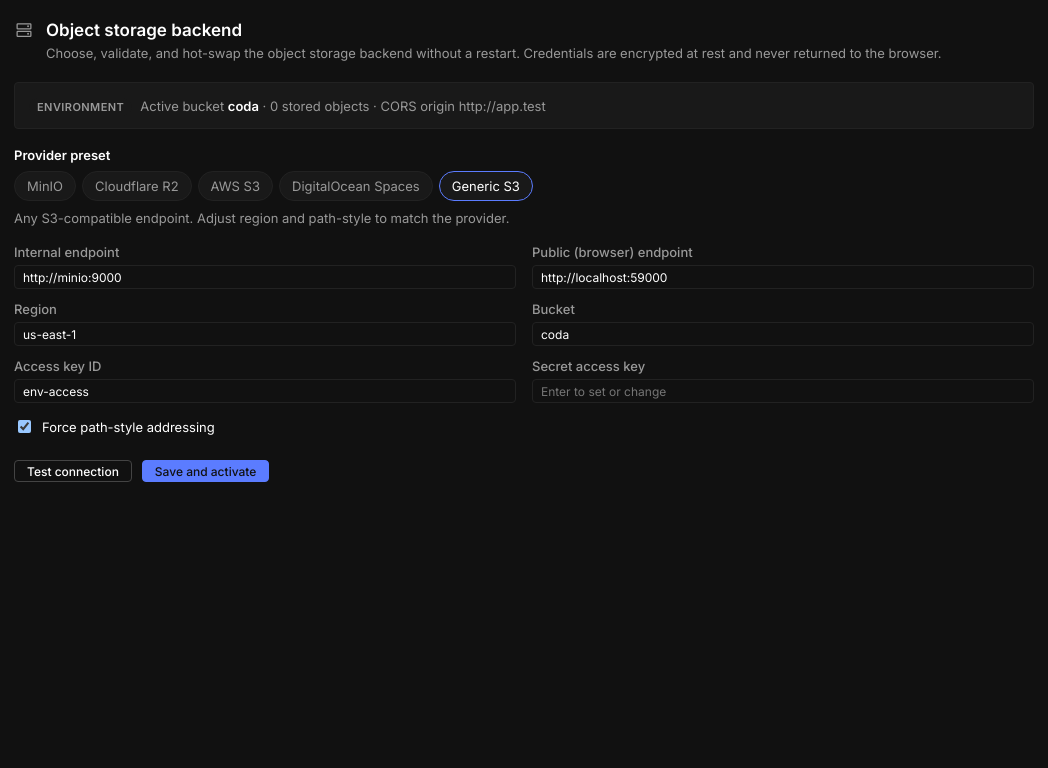
Test case: StorageSection › runs the probe and renders per-check results
Expected: the text "Environment" is shown, [29,98,132,116]
Click the button "Test connection". click: point(73, 471)
box: [14,460,132,482]
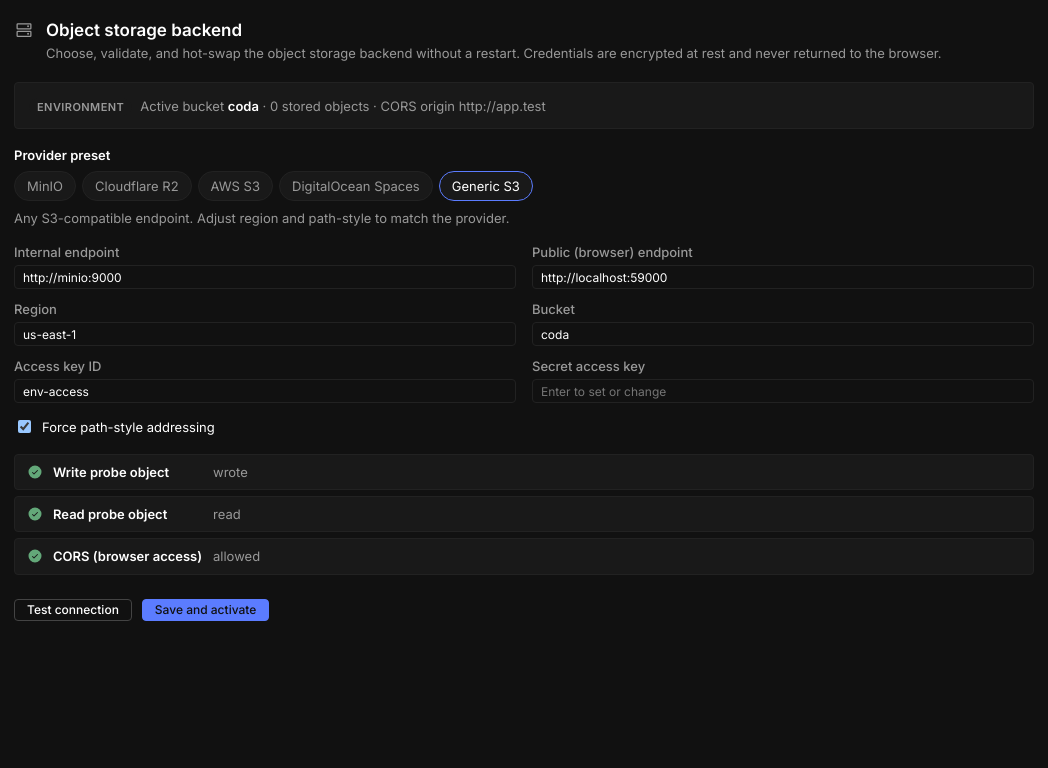
Expected: the text "CORS (browser access)" is shown, [53,548,203,564]
Expected: the text "allowed" is shown, [213,548,260,564]
